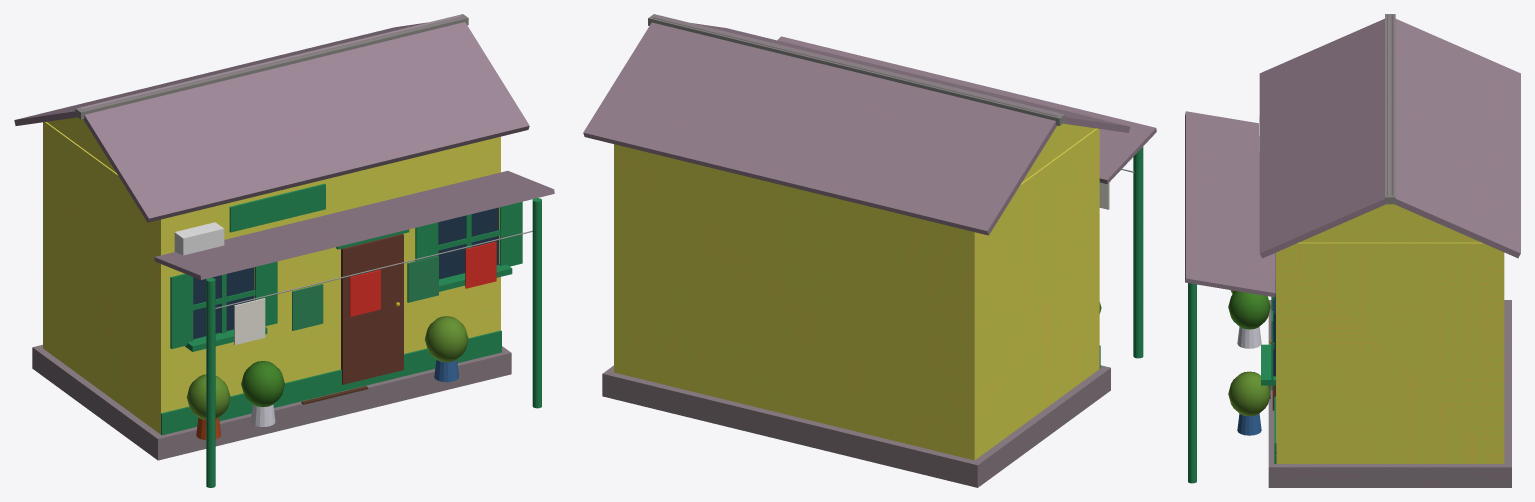
The model's file is house-ambon-c.glb.
3 views of the same model, side by side, from view 1: azimuth 30°, elevation 25°; view 2: azimuth 150°, elevation 25°; view 3: azimuth 270°, elevation 25° (orthographic). The views are drawn at different scales.
Parts seen in each view (by area): view 1: Cube; view 2: Cube; view 3: Cube.
Boxes of the visible parts, <box> form: Cube: <box>14,14,554,487</box>; Cube: <box>583,14,1156,487</box>; Cube: <box>1185,14,1520,487</box>.
Size of the model in its own units: 1.31 by 1 by 1.02.
1 material, 1 textured.
